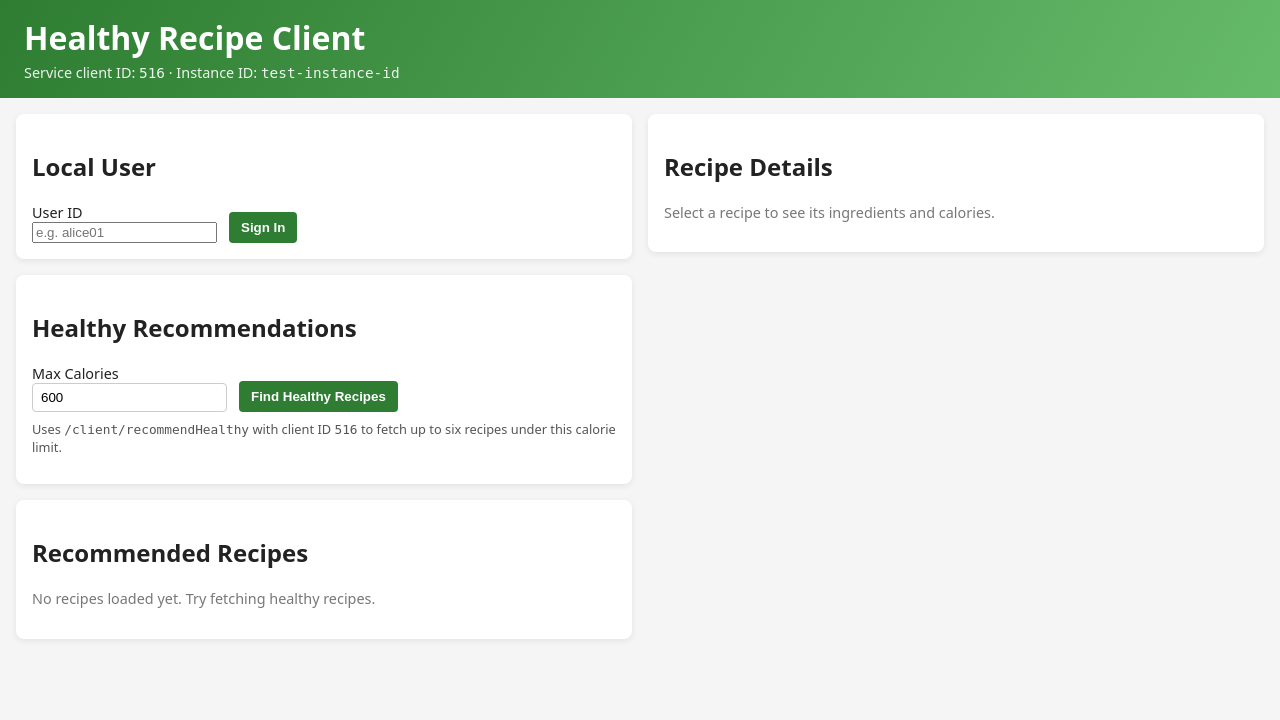
Test: App component › loads healthy recipes and displays them
#  Sign in
Type "bob01" into the field labelled "User ID" at x=124, y=232, box [32,222,217,243]
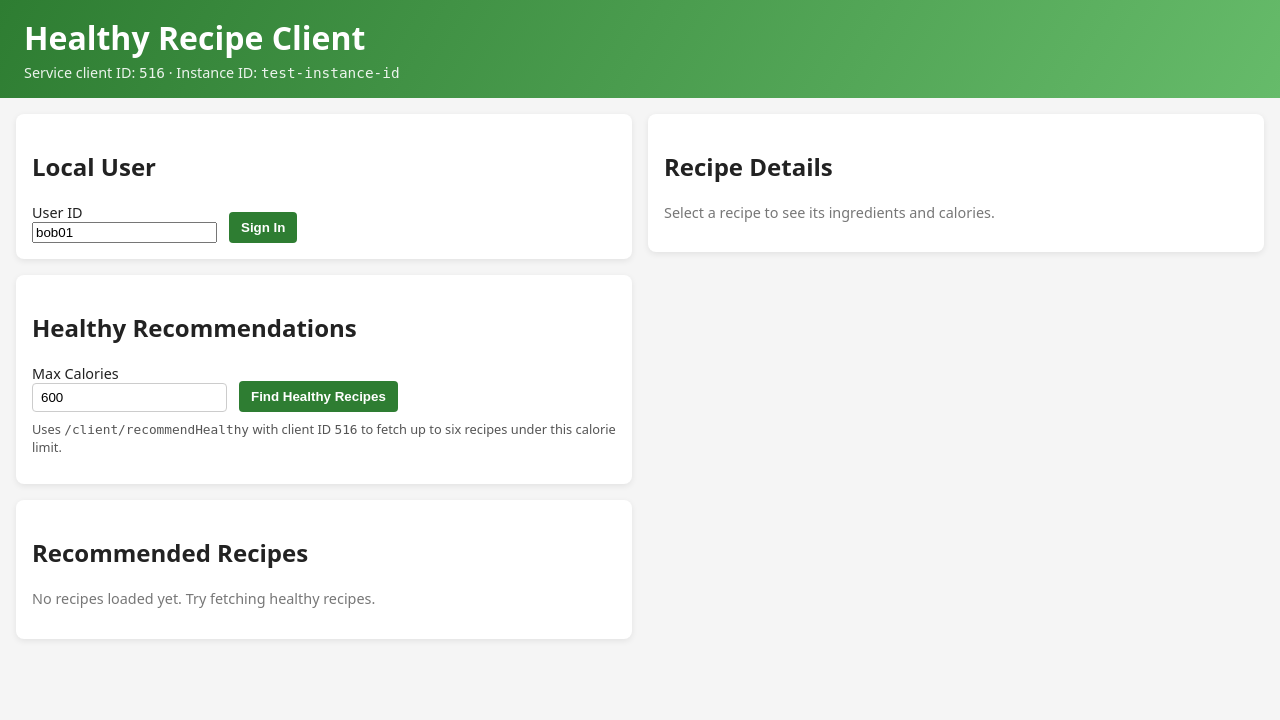
Click the button "Sign In" at x=263, y=227, box [229,212,297,243]
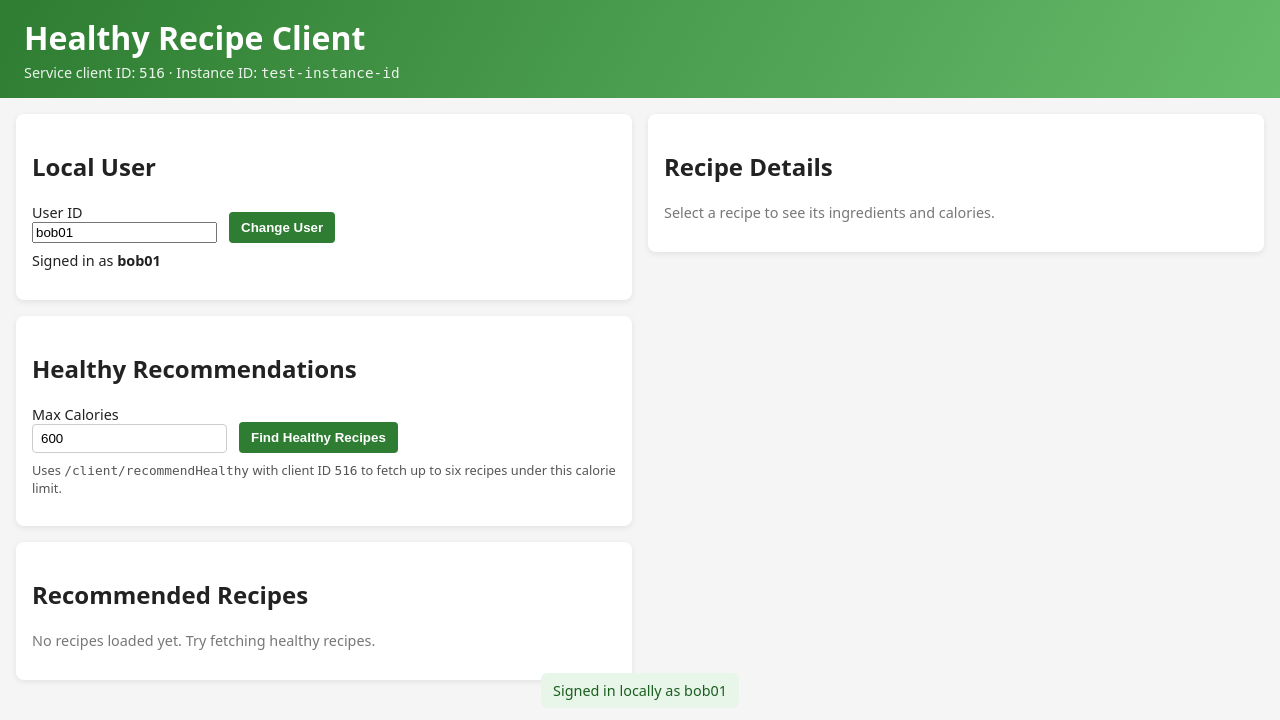
Expected: the text "Signed in as bob01" is shown, [32,251,161,270]
Click the button "Find Healthy Recipes" at x=318, y=438, box [239,422,398,453]
(page scrolled)
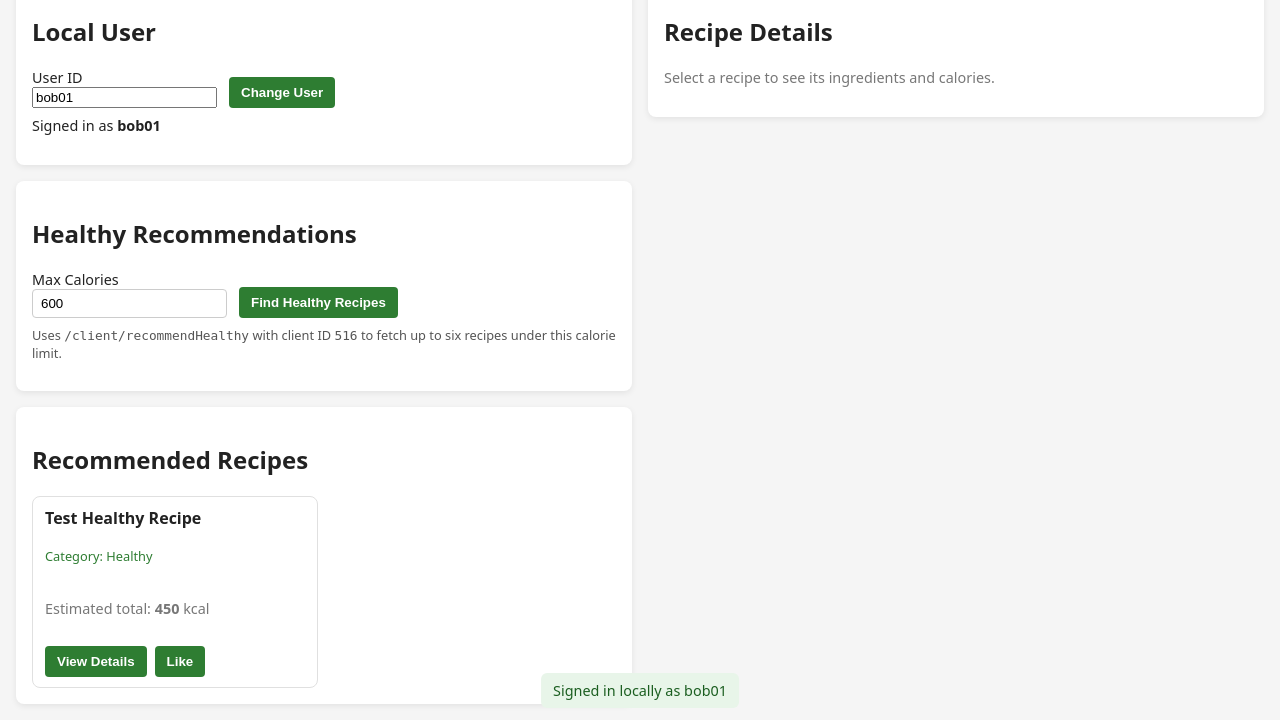
Expected: the heading "Test Healthy Recipe" is shown, [45,507,201,529]
Expected: the text "Estimated total: 450 kcal" is shown, [45,599,210,618]
Expected: the text "450" is shown, [155,599,179,618]
